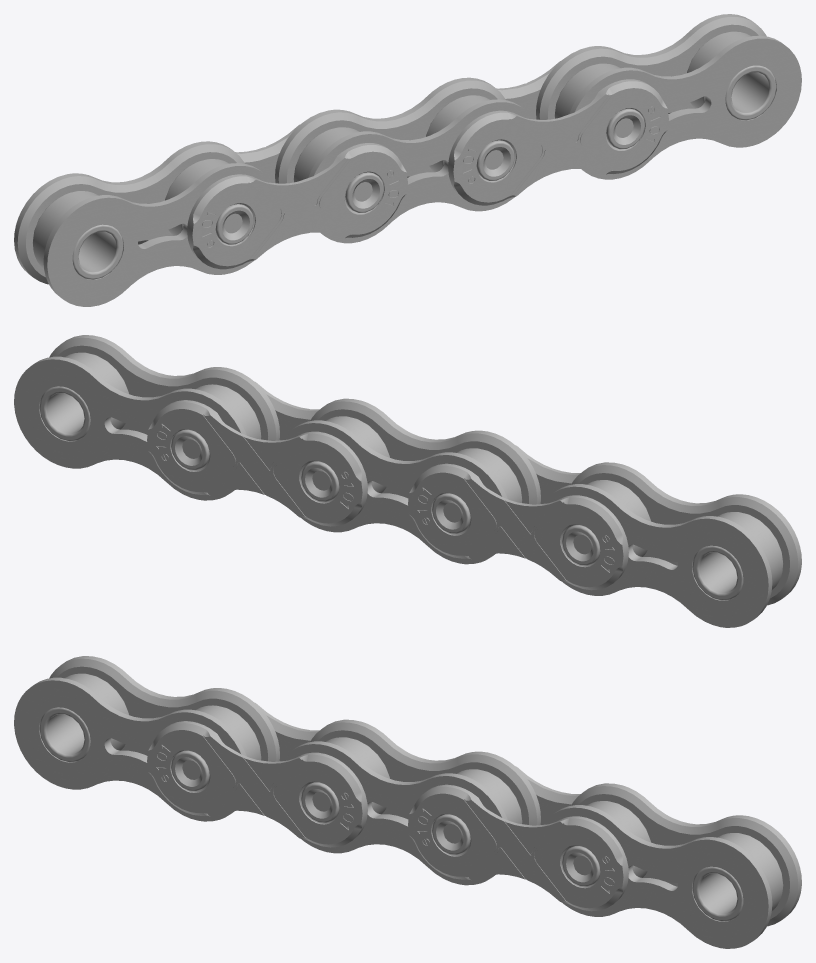
The picture shows the model from 3 angles, top to bottom: view 1: azimuth 30°, elevation 25°; view 2: azimuth 150°, elevation 25°; view 3: azimuth 330°, elevation 25°; orthographic projection.
Visible parts, largest first — view 1: 左內鏈, 左外鏈, 右內鏈, 大管, 小管, 中管, 右外鏈; view 2: 右內鏈, 右外鏈, 左內鏈, 大管, 小管, 中管, 左外鏈; view 3: 左內鏈, 左外鏈, 右內鏈, 大管, 小管, 中管, 右外鏈.
Part boxes in pixels (x1,y1,x2,y2): 左內鏈: [43, 35, 801, 306]; 左外鏈: [187, 79, 668, 269]; 右內鏈: [14, 14, 766, 284]; 大管: [32, 31, 750, 269]; 小管: [215, 108, 644, 244]; 中管: [72, 65, 776, 279]; 右外鏈: [235, 61, 560, 183]; 右內鏈: [14, 356, 772, 627]; 右外鏈: [147, 400, 628, 590]; 左內鏈: [49, 335, 801, 605]; 大管: [65, 352, 783, 590]; 小管: [171, 429, 600, 565]; 中管: [39, 386, 743, 600]; 左外鏈: [255, 382, 580, 503]; 左內鏈: [14, 677, 772, 948]; 左外鏈: [147, 721, 628, 911]; 右內鏈: [49, 656, 801, 926]; 大管: [65, 673, 783, 911]; 小管: [171, 750, 600, 886]; 中管: [39, 707, 743, 921]; 右外鏈: [255, 703, 580, 824].
Size of the model in its own units: 8.67 by 1.17 by 0.9394.
1 material, 1 textured.
